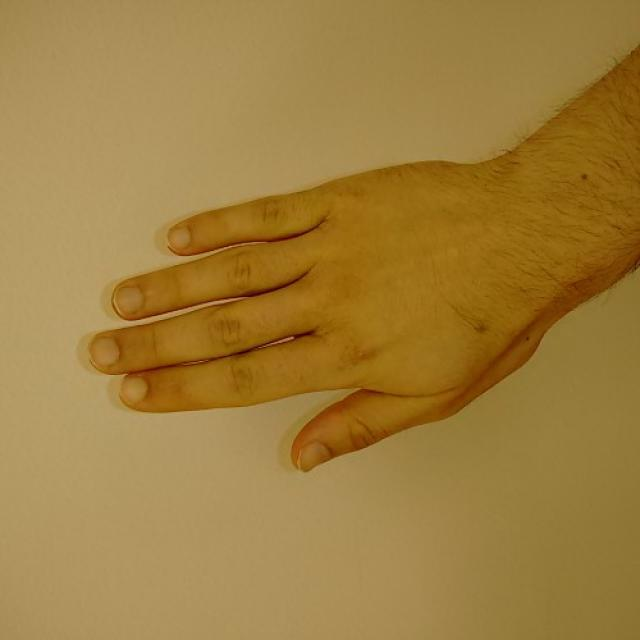paper: (91, 157, 524, 473)
